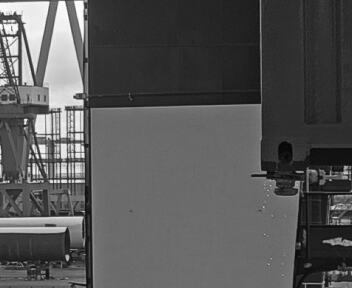twist_lock_1: (260, 165, 310, 203)
